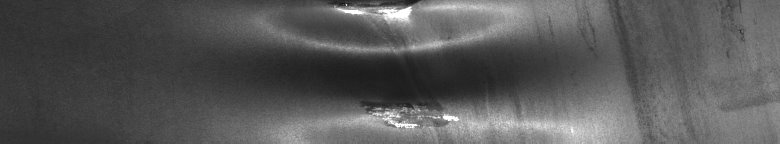ke: (292, 4, 483, 128)
